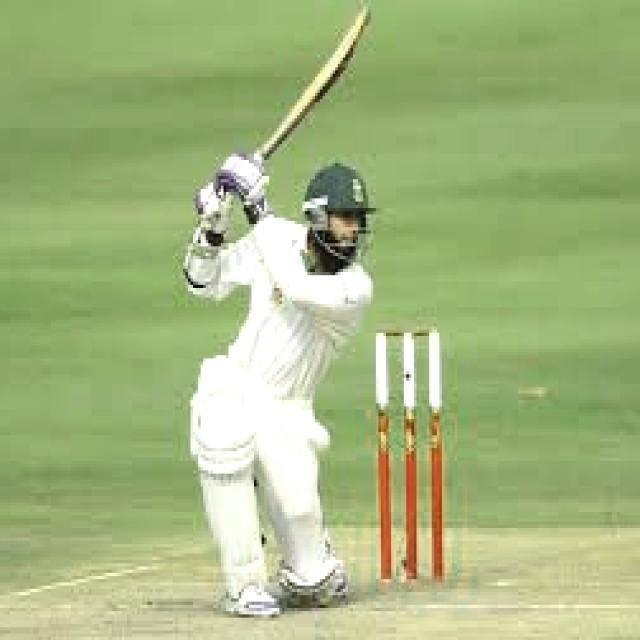bat: (252, 7, 373, 161)
toe: (357, 0, 378, 25)
